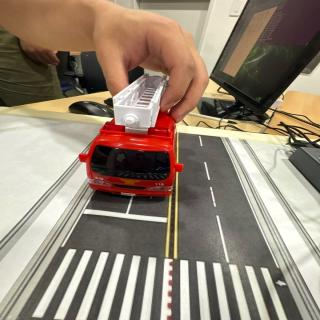Fire_truck: (79, 74, 183, 196)
